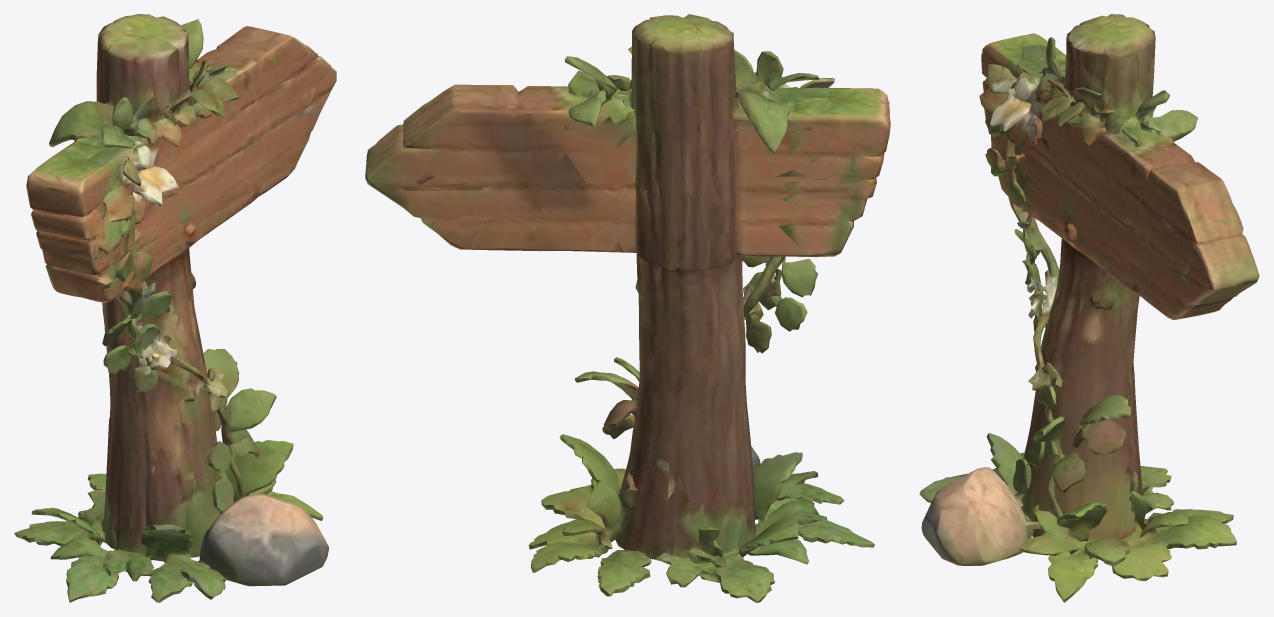
The model's file is tocon_alto.glb.
3 views of the same model, side by side, from view 1: azimuth 30°, elevation 25°; view 2: azimuth 150°, elevation 25°; view 3: azimuth 270°, elevation 25° (orthographic). The views are drawn at different scales.
Parts seen in each view (by area): view 1: tocon_alto_malla; view 2: tocon_alto_malla; view 3: tocon_alto_malla.
Boxes of the visible parts, x1=… form: tocon_alto_malla: x1=14, y1=14, x2=336, y2=602; tocon_alto_malla: x1=365, y1=14, x2=890, y2=602; tocon_alto_malla: x1=919, y1=14, x2=1259, y2=602.
Size of the model in its own units: 0.2402 by 0.2927 by 0.1799.
1 material, 1 textured.
